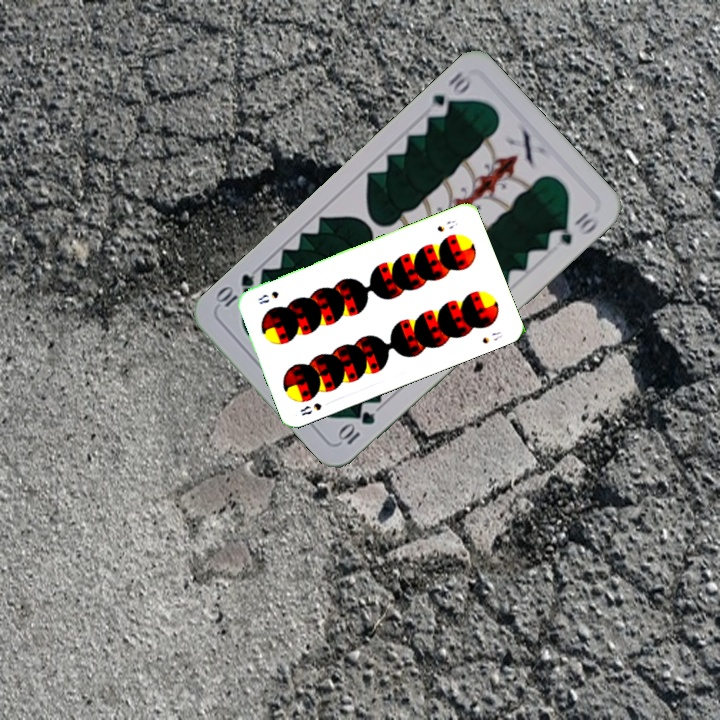G10: (423, 67, 475, 121), (334, 407, 378, 448)
S8: (296, 398, 324, 418), (433, 216, 460, 235)
